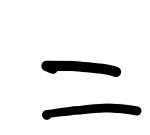eqv: (41, 59, 141, 120)
